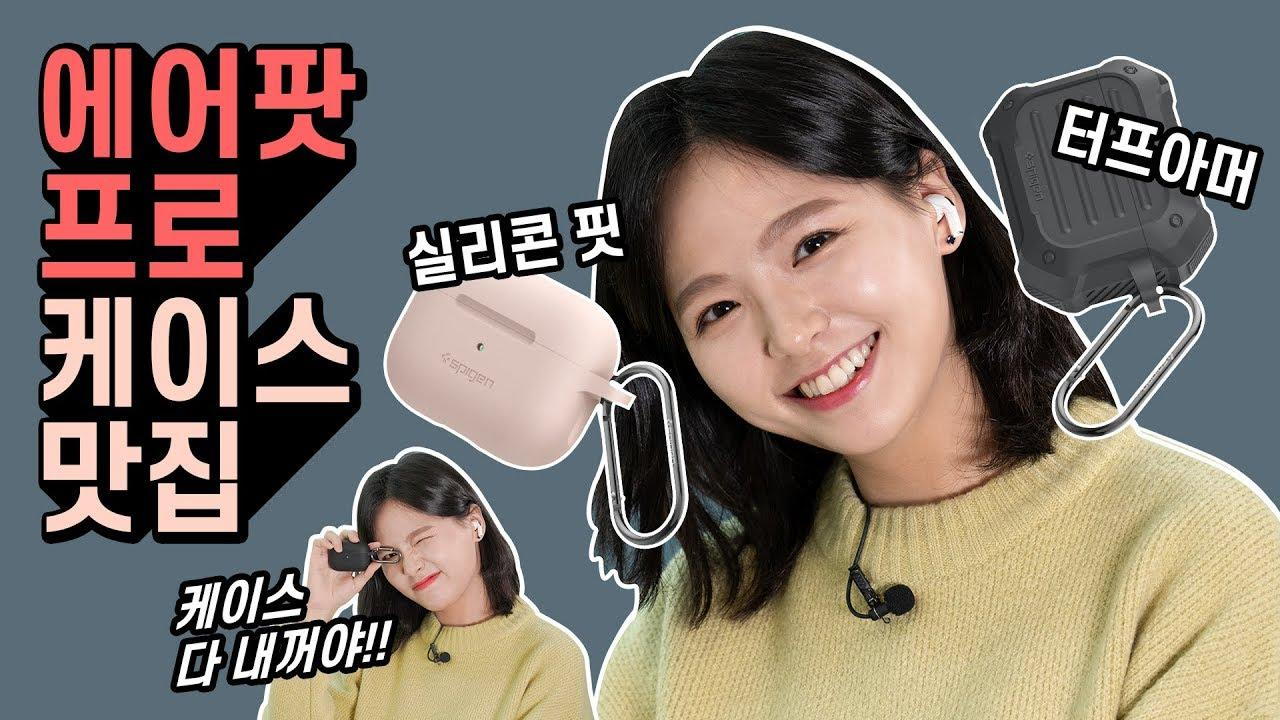earphone: (910, 183, 975, 245), (463, 515, 486, 546)
